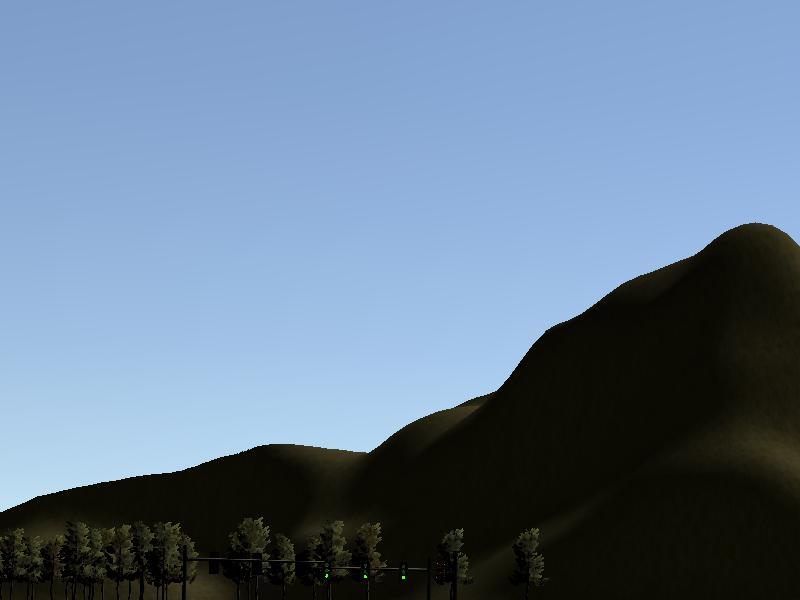Green: (358, 562, 373, 586), (320, 558, 331, 583), (398, 562, 408, 583)
